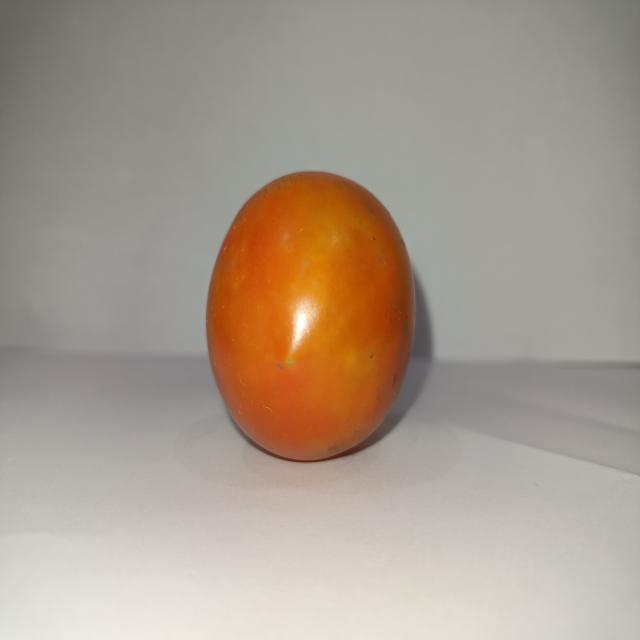Red: (204, 169, 417, 462)
